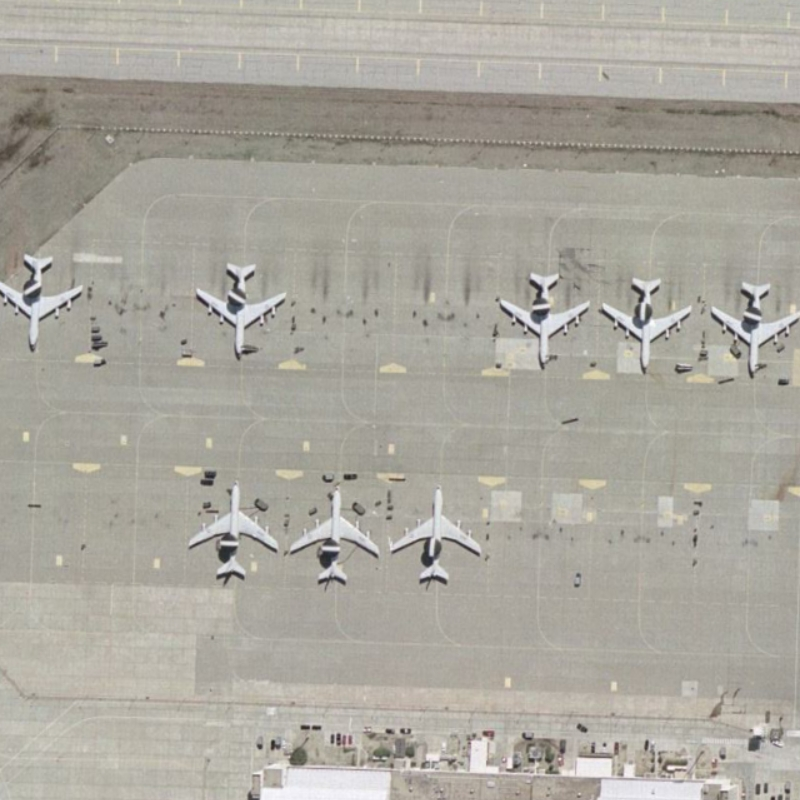A7: (593, 267, 698, 384), (186, 254, 296, 365), (386, 482, 492, 592), (182, 471, 285, 584), (284, 479, 383, 594), (493, 265, 596, 375), (701, 273, 800, 384), (1, 246, 91, 354)
